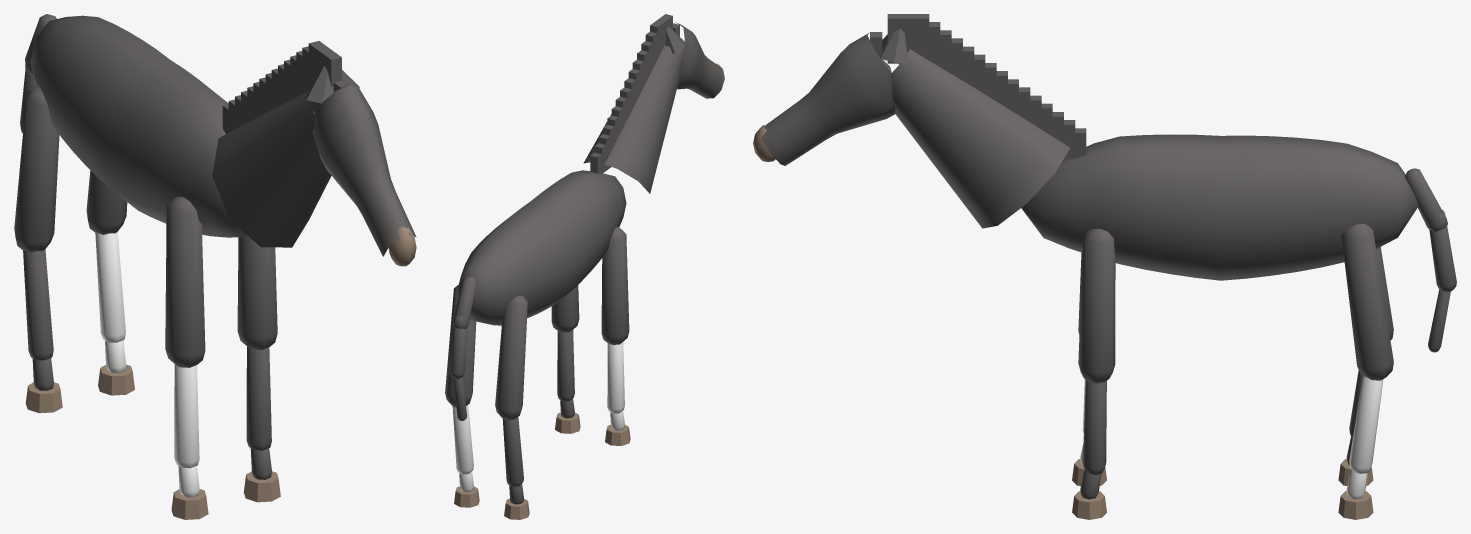
File: riding-horse-standing-black.glb
The picture shows the model from 3 angles, left to right: view 1: azimuth 30°, elevation 25°; view 2: azimuth 150°, elevation 25°; view 3: azimuth 270°, elevation 25°; orthographic projection. The views are drawn at different scales.
Visible parts, largest first — view 1: horse-standing-black; view 2: horse-standing-black; view 3: horse-standing-black.
Boxes of the visible parts, <box> form: horse-standing-black: <box>14,14,416,519</box>; horse-standing-black: <box>445,14,724,519</box>; horse-standing-black: <box>753,14,1456,519</box>.
Size of the model in its own units: 0.4687 by 2.17 by 2.89.
